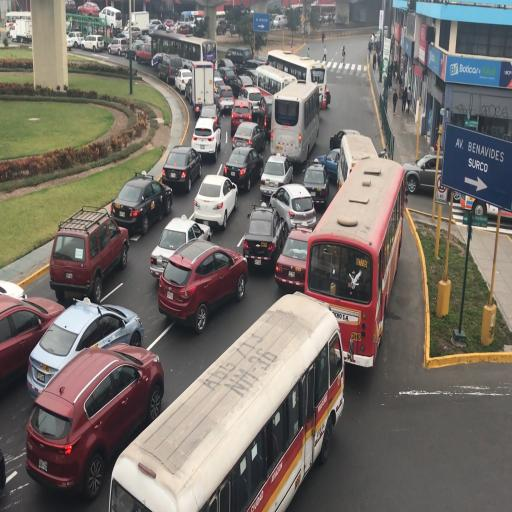auto: (26, 339, 161, 501), (28, 295, 143, 396), (158, 238, 248, 330), (48, 203, 130, 302), (1, 292, 67, 400), (109, 173, 171, 237), (149, 216, 210, 279), (242, 200, 284, 272), (275, 226, 316, 290), (192, 173, 237, 230), (269, 181, 315, 233), (160, 144, 202, 194), (402, 152, 447, 196), (223, 145, 263, 192), (457, 190, 508, 223), (300, 160, 330, 211), (259, 153, 293, 198), (239, 86, 272, 131), (191, 112, 221, 160), (231, 120, 265, 154), (230, 96, 255, 134), (156, 52, 184, 84), (333, 128, 363, 151), (198, 103, 220, 134), (215, 58, 237, 88), (233, 73, 256, 101), (214, 84, 234, 116), (0, 278, 26, 301), (135, 41, 156, 66), (241, 58, 264, 80), (175, 68, 193, 94), (125, 39, 146, 61), (81, 34, 104, 52), (108, 37, 128, 56), (120, 24, 142, 40), (78, 0, 100, 16), (213, 75, 226, 101), (66, 31, 85, 48), (144, 18, 163, 34), (170, 22, 190, 36), (272, 14, 287, 28), (252, 56, 268, 68), (216, 19, 227, 35), (161, 19, 176, 30), (9, 23, 16, 41)
bus: (111, 295, 333, 506), (303, 153, 401, 364), (270, 79, 319, 167), (267, 48, 328, 111), (338, 132, 382, 194), (253, 64, 294, 105), (6, 10, 32, 42), (225, 46, 252, 72), (98, 6, 122, 32), (180, 10, 205, 32)
